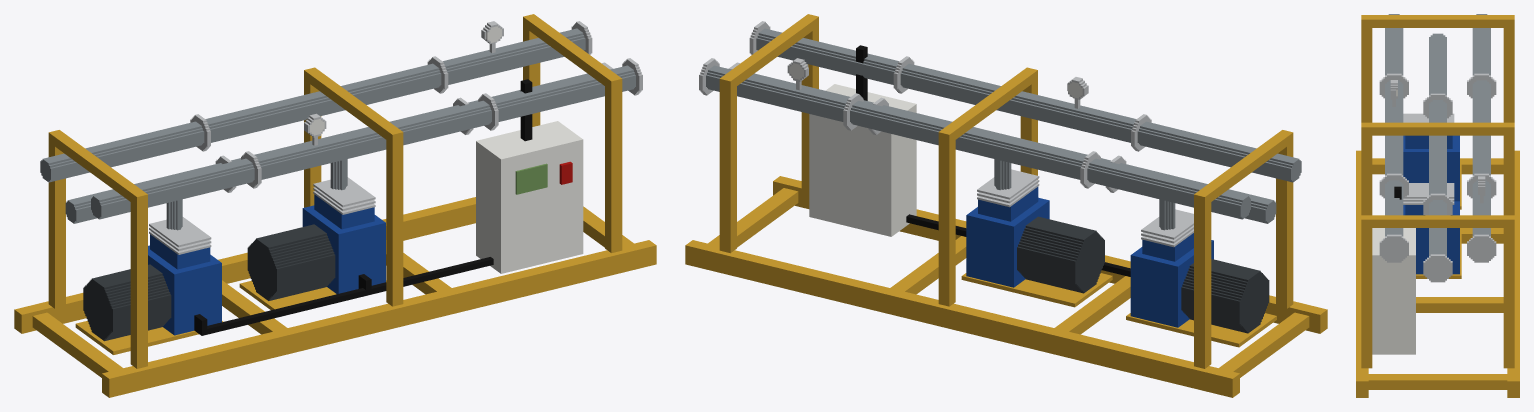
The model's file is ammonia_machine_pipework.glb.
3 renders of one model, left to right at view 1: azimuth 30°, elevation 25°; view 2: azimuth 150°, elevation 25°; view 3: azimuth 270°, elevation 25°, orthographic. The views are drawn at different scales.
Visible parts, largest first — view 1: ammonia_machine_pipework:compound; view 2: ammonia_machine_pipework:compound; view 3: ammonia_machine_pipework:compound.
Part boxes in pixels (x1,y1,x2,y2): ammonia_machine_pipework:compound: [14, 14, 656, 397]; ammonia_machine_pipework:compound: [685, 14, 1327, 397]; ammonia_machine_pipework:compound: [1356, 14, 1519, 397].
Size of the model in its own units: 3 by 1.1 by 0.9.
